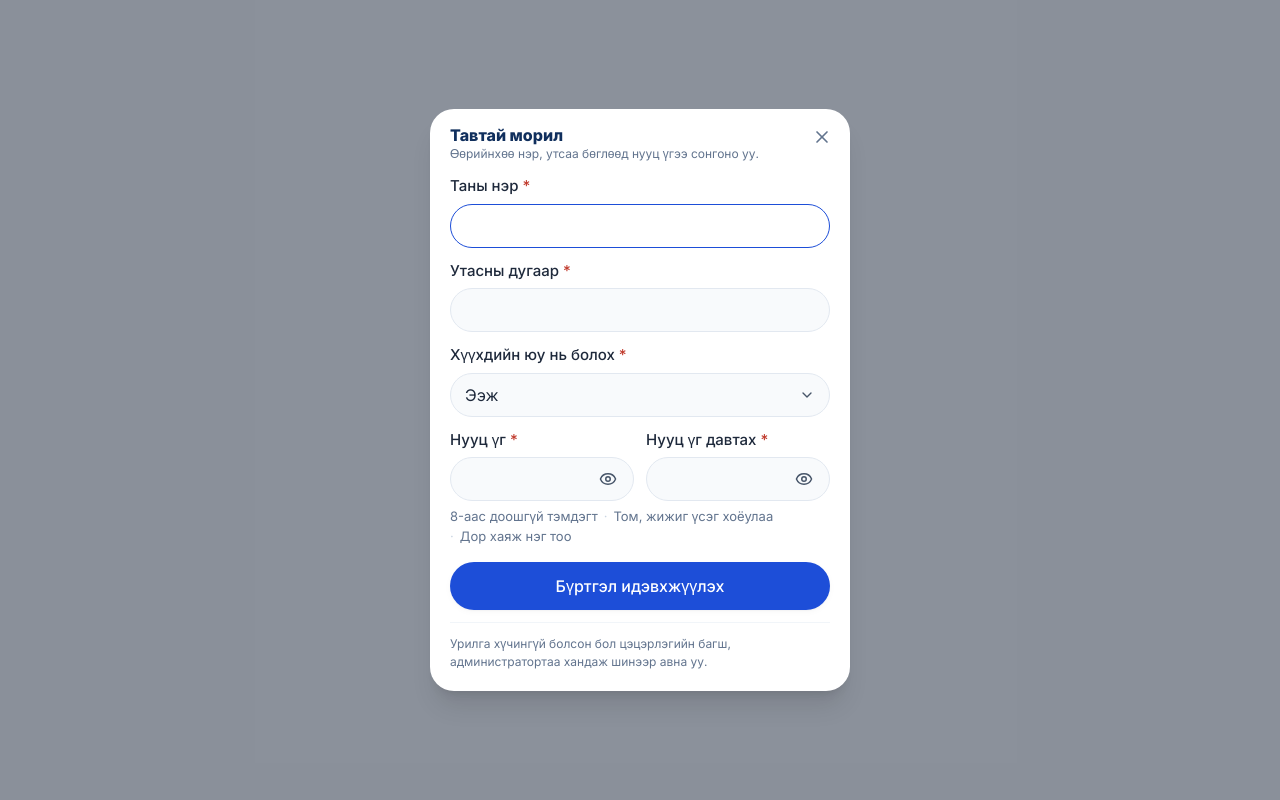
Test: invitation — the guardian's phone › is not submitted until the SMS proved it, and then carries the proof
Type "Оюун" into the field labelled "Таны нэр *" at (640, 226), box [450, 204, 830, 248]
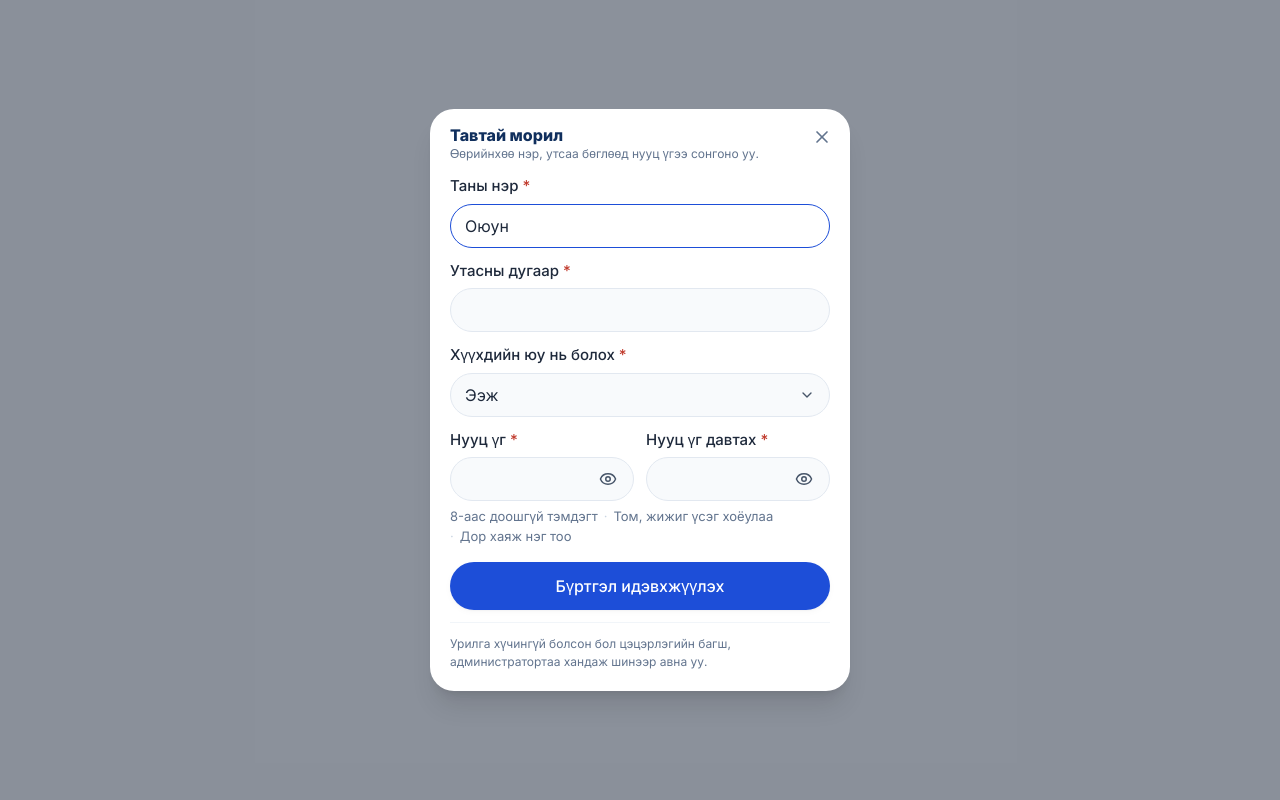
Type "99112233" into the field labelled "Утасны дугаар *" at (640, 310), box [450, 288, 830, 332]
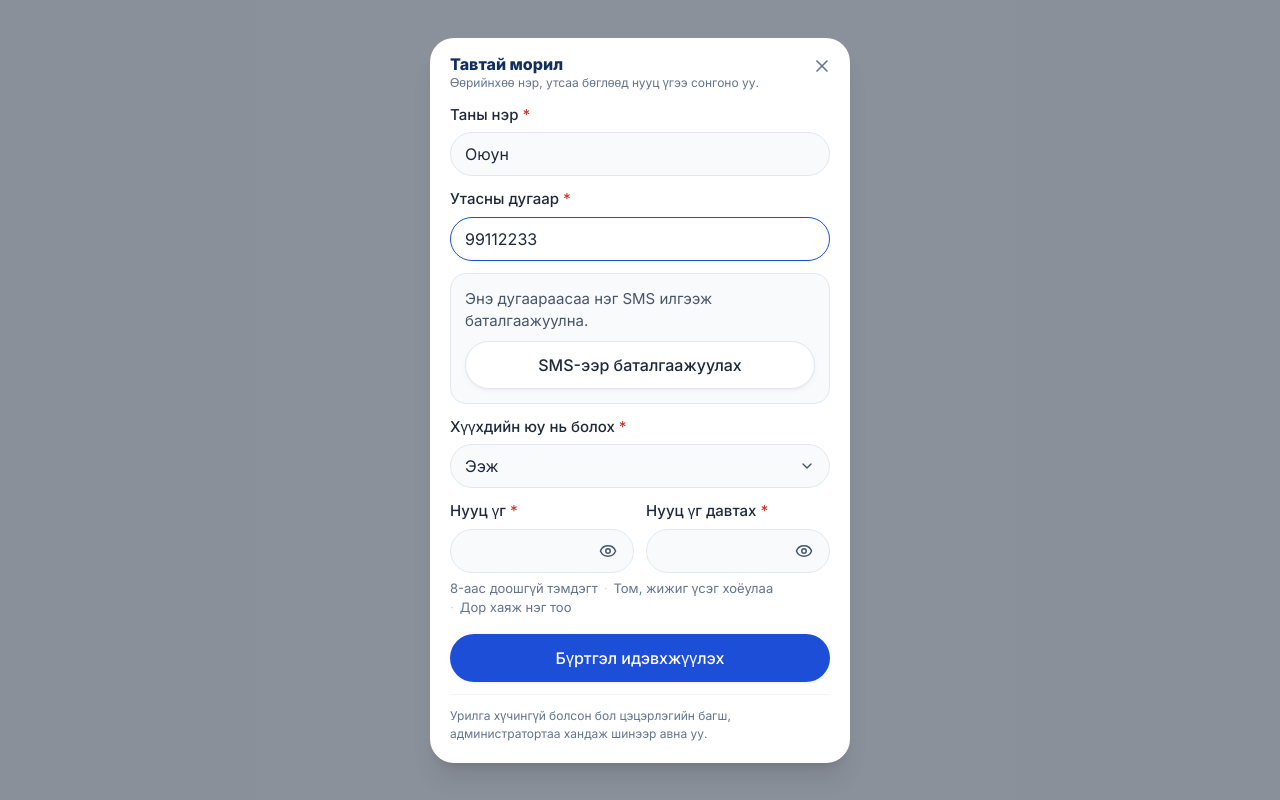
Type "Нууцүг123" into the password field labelled "Нууц үг *" at (542, 550), box [450, 528, 634, 572]
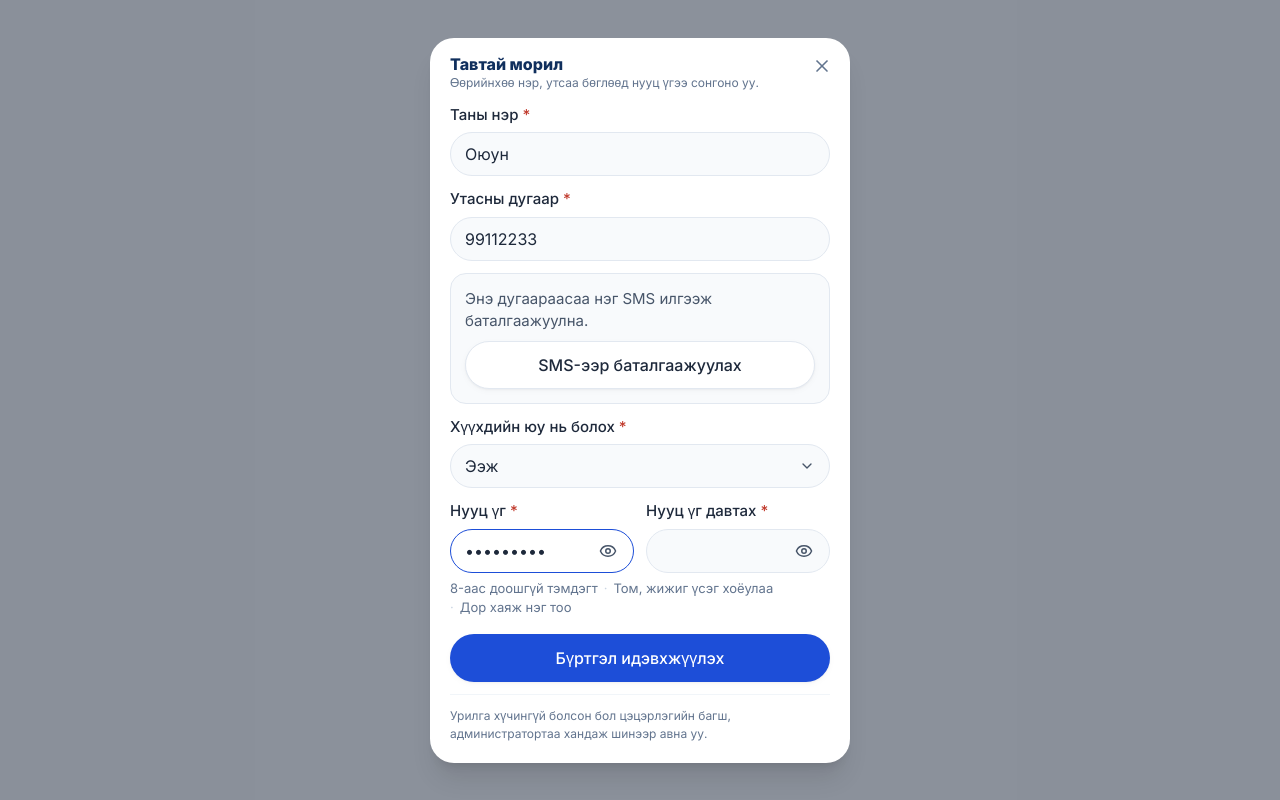
Type "Нууцүг123" into the password field labelled "Нууц үг давтах *" at (738, 550), box [646, 528, 830, 572]
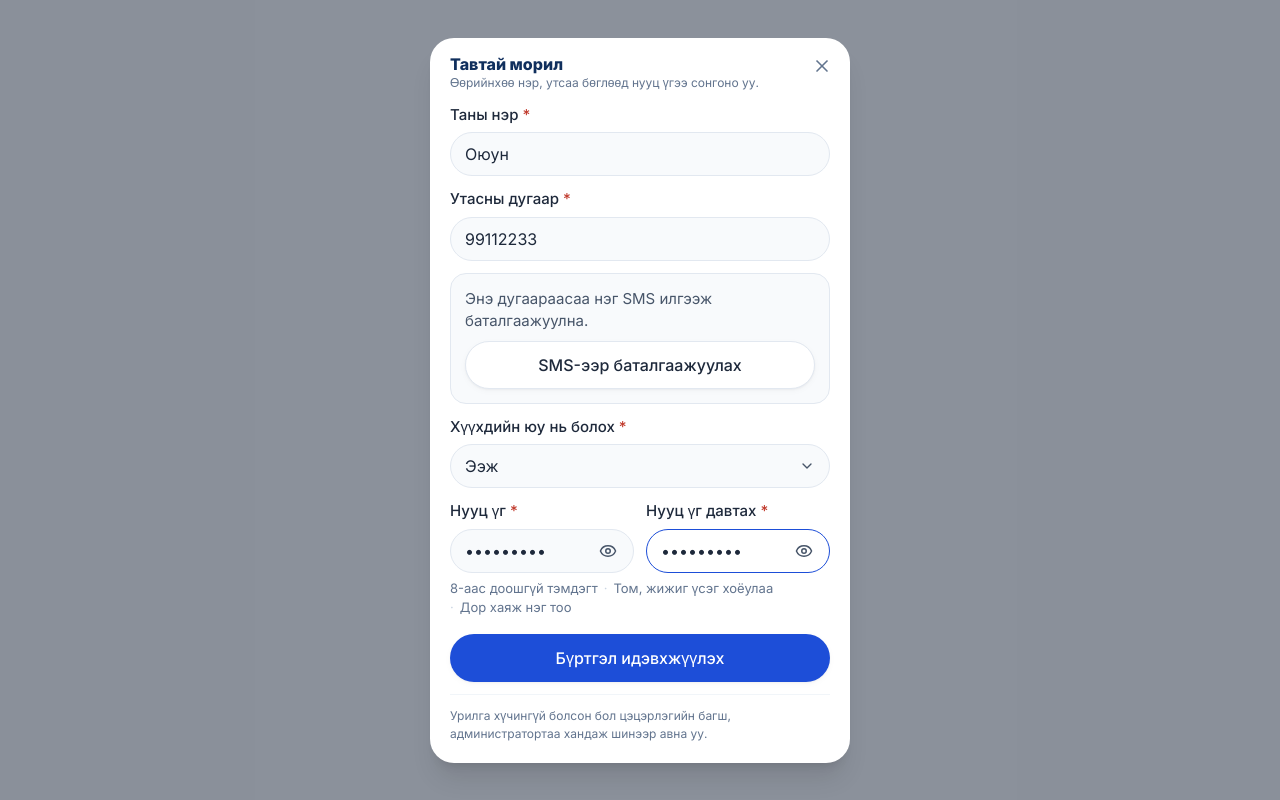
Click the button "SMS-ээр баталгаажуулах" at (640, 364), box [465, 340, 815, 388]
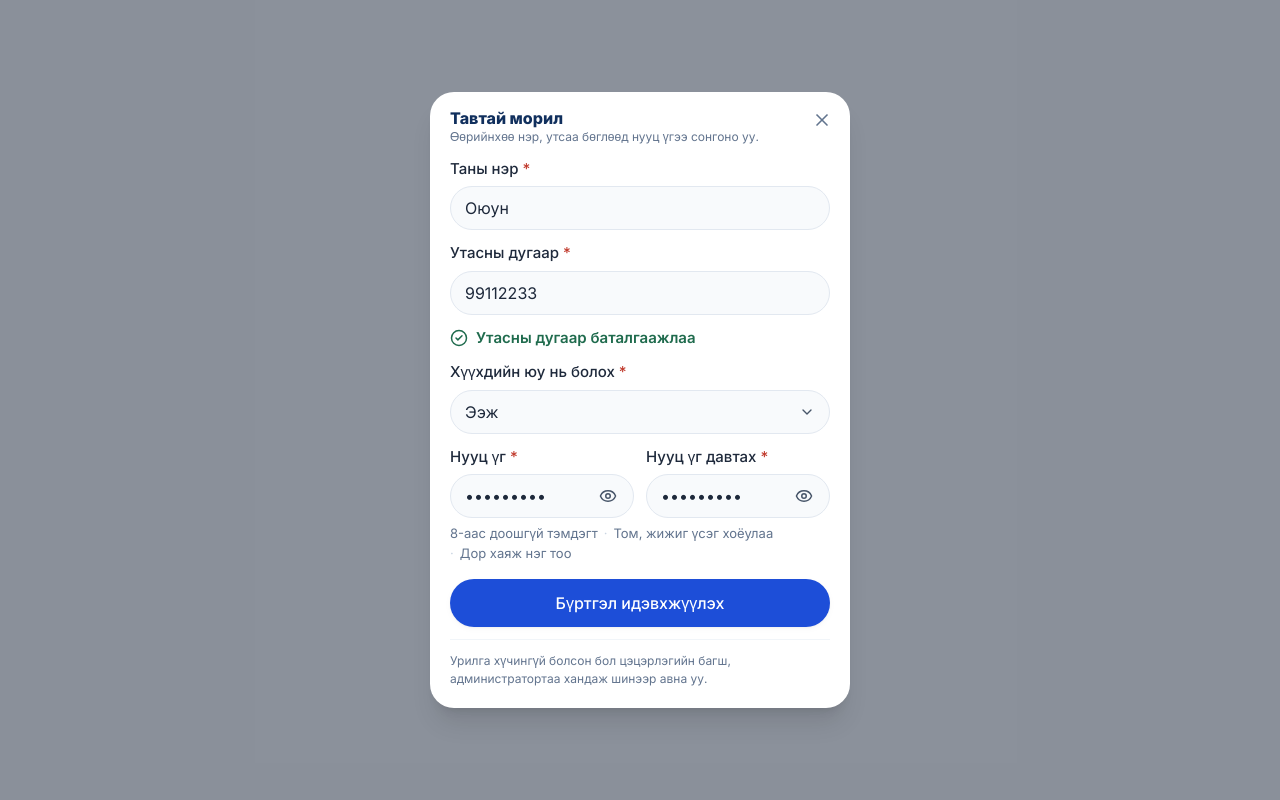
Now the text "Утасны дугаар баталгаажлаа" is shown, box [450, 328, 696, 347]
Click the button "Бүртгэл идэвхжүүлэх" at (640, 603), box [450, 579, 830, 627]
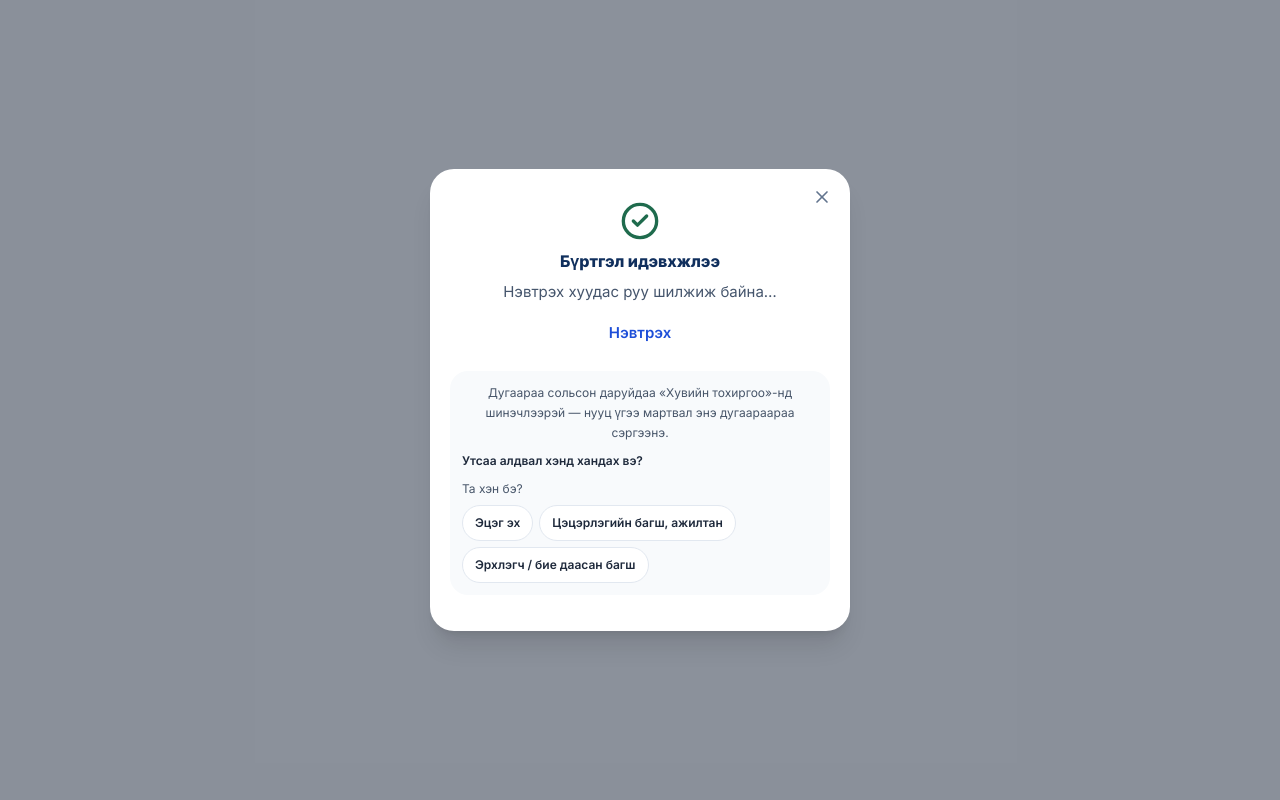
Now the element labelled "хэнд хандах вэ" shows "Утсаа алдвал хэнд хандах вэ?", box [462, 453, 643, 468]
Now the element "Та хэн бэ?" is shown, box [462, 481, 736, 583]
